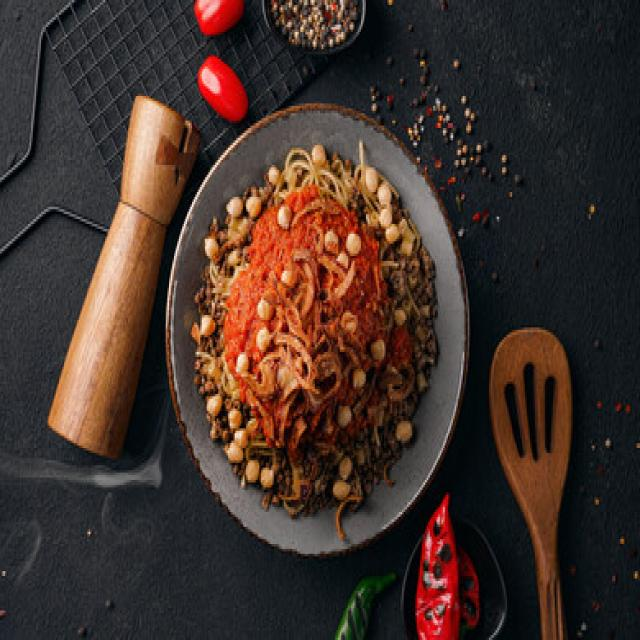felfel: (319, 492, 506, 640)
koshary: (191, 140, 434, 528)
